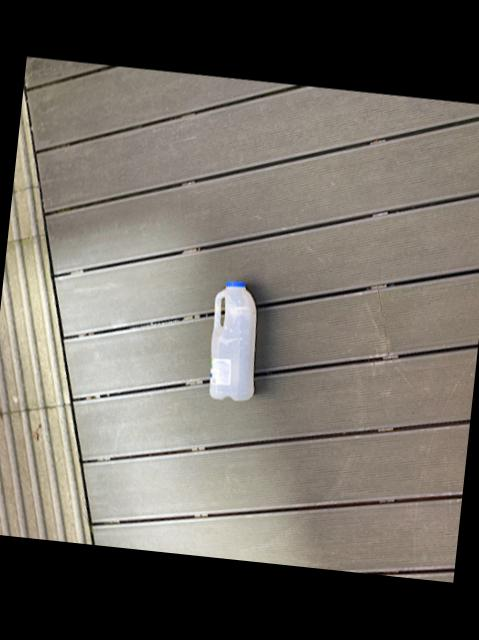plastic: (207, 280, 253, 399)
